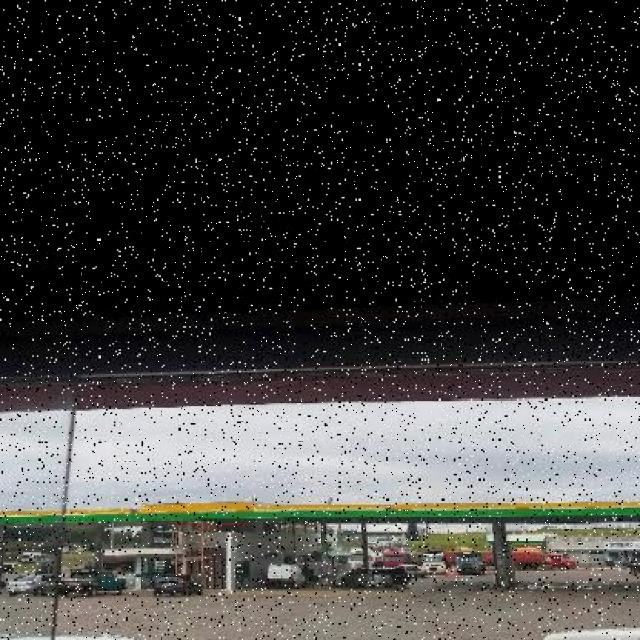emergency_exit: (1, 362, 639, 525), (136, 500, 640, 523)
